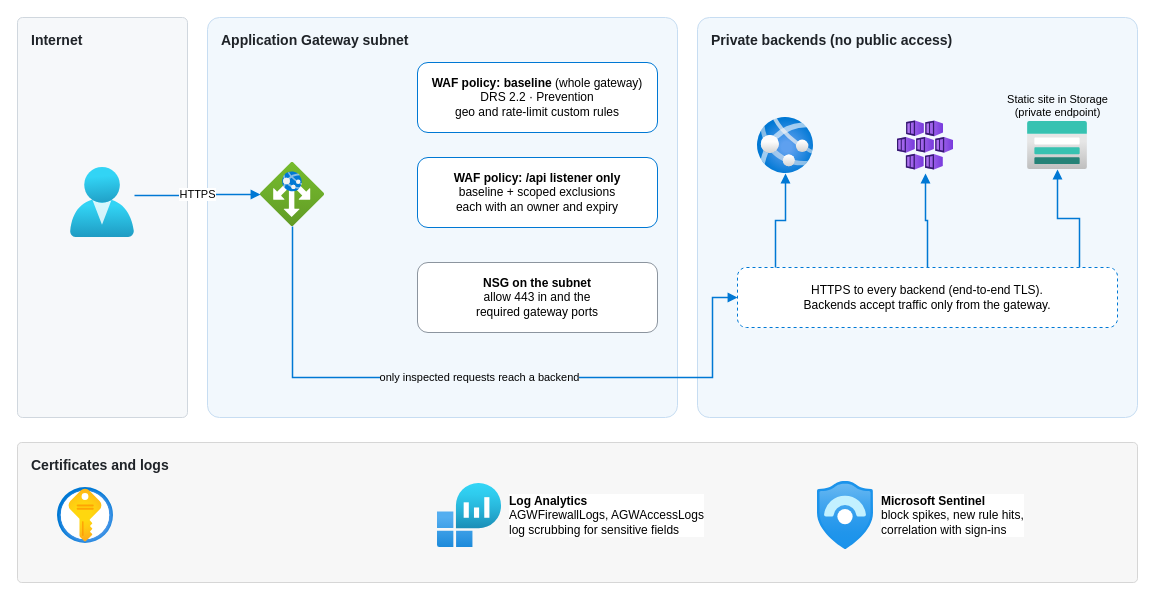
The diagram is 1155 pixels wide and 600 high, and some of its shapes have lost their labels. Here are the shapes that lost their labels. From the top down, the centre of each, then its label:
At (x=785, y=145): "App Service (private endpoint)".
At (x=925, y=145): "AKS internal load balancer".
At (x=102, y=202): "Browsers, SSO callbacks, API clients".
At (x=292, y=194): "Application Gateway WAF_v2 TLS 1.2+ · autoscale · one public IP".
At (x=85, y=515): "Key Vault TLS certificate, auto-renewed, read by the gateway's managed identity".
